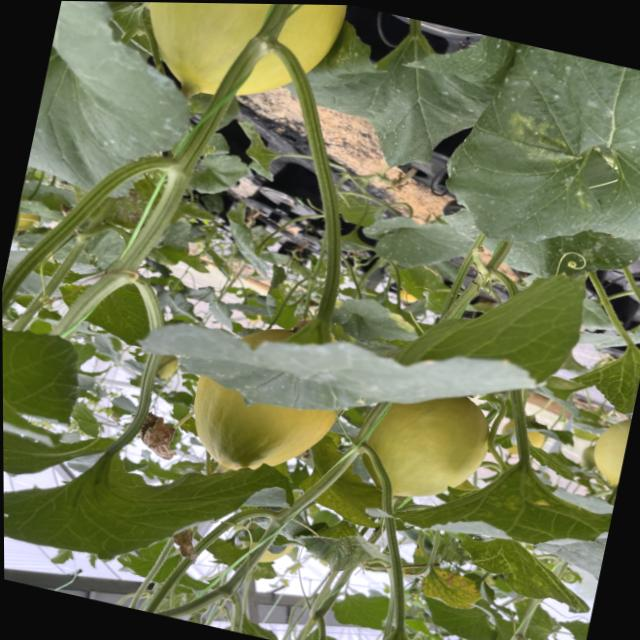CMV: (446, 529, 592, 616)
downy mildew: (196, 199, 597, 471), (431, 31, 640, 272), (23, 0, 232, 214), (286, 7, 496, 185), (428, 447, 618, 567), (357, 199, 472, 276)
healthy: (3, 406, 321, 609), (577, 324, 640, 414)
